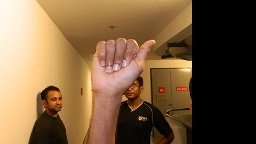Pugno: (87, 36, 157, 99)
